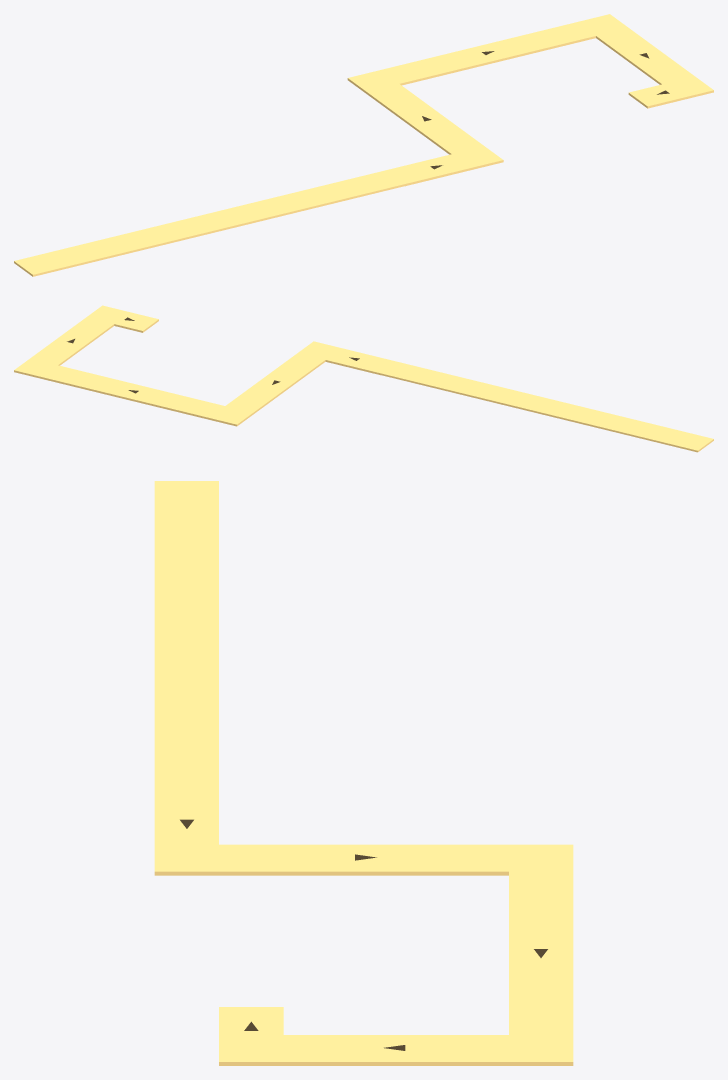
The model's file is Nivel_02_Patasola_Movil_Gameplay.fbx.
3 renders of one model, top to bottom at view 1: azimuth 30°, elevation 25°; view 2: azimuth 150°, elevation 25°; view 3: azimuth 270°, elevation 25°, orthographic. The views are drawn at different scales.
Parts seen in each view (by area): view 1: L02_Path_A_GP, L02_Path_Extension_W_GP; view 2: L02_Path_A_GP, L02_Path_Extension_W_GP; view 3: L02_Path_A_GP, L02_Path_Extension_W_GP.
Part boxes in pixels (x1,y1,x2,y2): L02_Path_A_GP: (347,14,713,186); L02_Path_Extension_W_GP: (14,170,405,276); L02_Path_A_GP: (14,305,396,426); L02_Path_Extension_W_GP: (381,362,713,452); L02_Path_A_GP: (154,790,573,1065); L02_Path_Extension_W_GP: (154,481,218,789).
Size of the model in its own units: 42.72 by 0.15 by 13.
